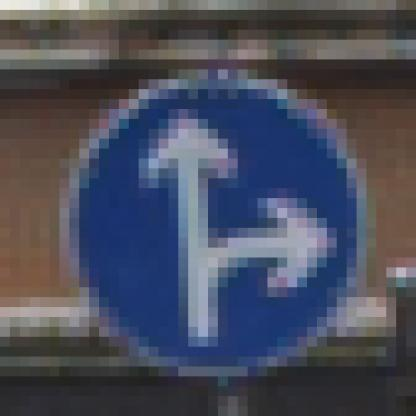Straight or Right: (61, 61, 358, 368)
